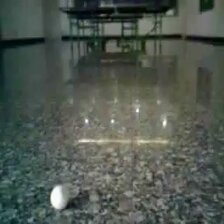w: (48, 184, 69, 208)
